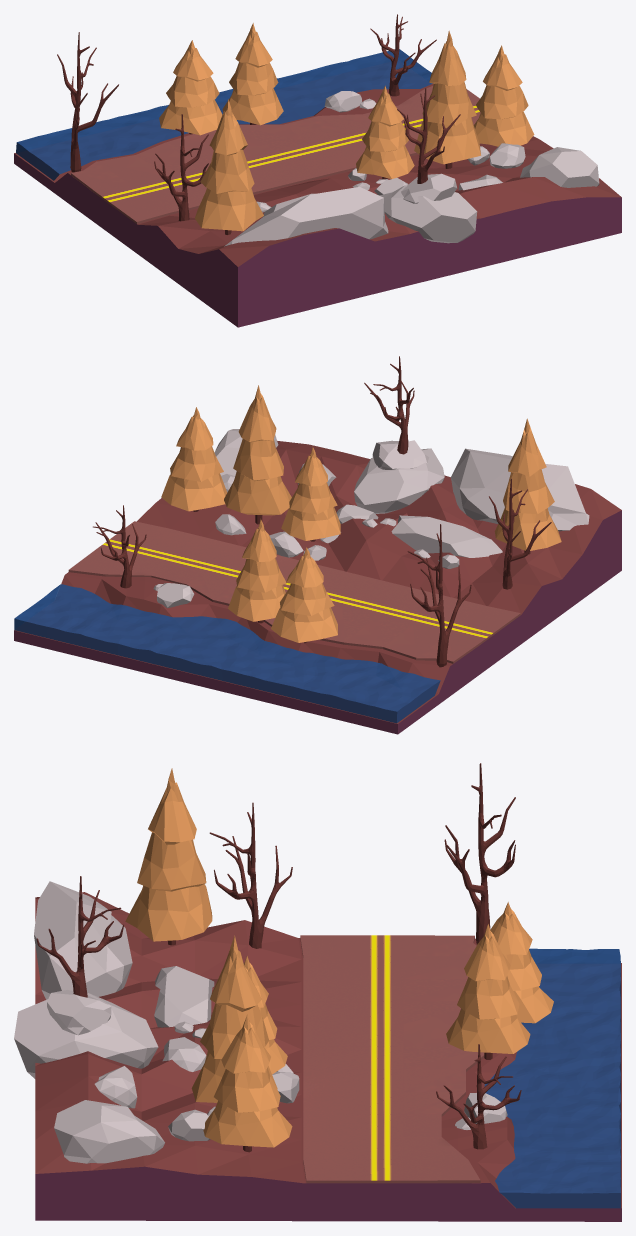
File: road.glb
3 renders of one model, top to bottom at view 1: azimuth 30°, elevation 25°; view 2: azimuth 150°, elevation 25°; view 3: azimuth 270°, elevation 25°, orthographic. The views are drawn at different scales.
Visible parts, largest first — view 1: Cube, Cube.001, Icosphere.021, Cube.002, Icosphere.003, Icosphere.001, Icosphere, Icosphere.004, Icosphere.005, Icosphere.002, Plane.003, Plane.004 (+2 smaller); view 2: Cube, Cube.002, Cube.001, Icosphere.021, Icosphere.001, Icosphere.003, Icosphere, Icosphere.004, Icosphere.005, Icosphere.002, Plane.003, Plane.004 (+2 smaller); view 3: Cube, Cube.001, Icosphere.021, Cube.002, Icosphere.003, Icosphere, Icosphere.005, Icosphere.001, Icosphere.004, Plane.003, Plane.004, Plane.002 (+2 smaller).
Boxes of the visible parts, box(x1,y1,x2,y2) form: Cube: box(14, 83, 621, 327); Cube.001: box(71, 86, 480, 223); Icosphere.021: box(224, 91, 599, 246); Cube.002: box(16, 49, 432, 180); Icosphere.003: box(195, 99, 263, 234); Icosphere.001: box(414, 30, 480, 168); Icosphere: box(474, 45, 534, 146); Icosphere.004: box(159, 40, 222, 135); Icosphere.005: box(222, 23, 283, 125); Icosphere.002: box(356, 85, 414, 179); Plane.003: box(57, 32, 118, 172); Plane.004: box(154, 114, 208, 221); Cube: box(14, 441, 621, 734); Cube.002: box(14, 584, 440, 723); Cube.001: box(68, 521, 520, 663); Icosphere.021: box(153, 429, 589, 608); Icosphere.001: box(224, 385, 291, 524); Icosphere.003: box(494, 418, 561, 554); Icosphere: box(161, 407, 227, 511); Icosphere.004: box(271, 547, 337, 643); Icosphere.005: box(228, 519, 286, 623); Icosphere.002: box(281, 447, 340, 541); Plane.003: box(407, 524, 471, 667); Plane.004: box(489, 478, 551, 589); Cube: box(35, 892, 621, 1221); Cube.001: box(300, 935, 484, 1183); Icosphere.021: box(14, 881, 507, 1163); Cube.002: box(484, 948, 620, 1208); Icosphere.003: box(125, 768, 212, 945); Icosphere: box(203, 1015, 292, 1152); Icosphere.005: box(446, 924, 530, 1059); Icosphere.001: box(191, 935, 277, 1102); Icosphere.004: box(490, 902, 553, 1023); Plane.003: box(444, 763, 515, 944); Plane.004: box(209, 802, 292, 948); Plane.002: box(36, 876, 123, 997).
Bounding box in the file's own units: 2.01 × 0.8879 × 2.07.
Materials: 7 (1 with a texture image).
